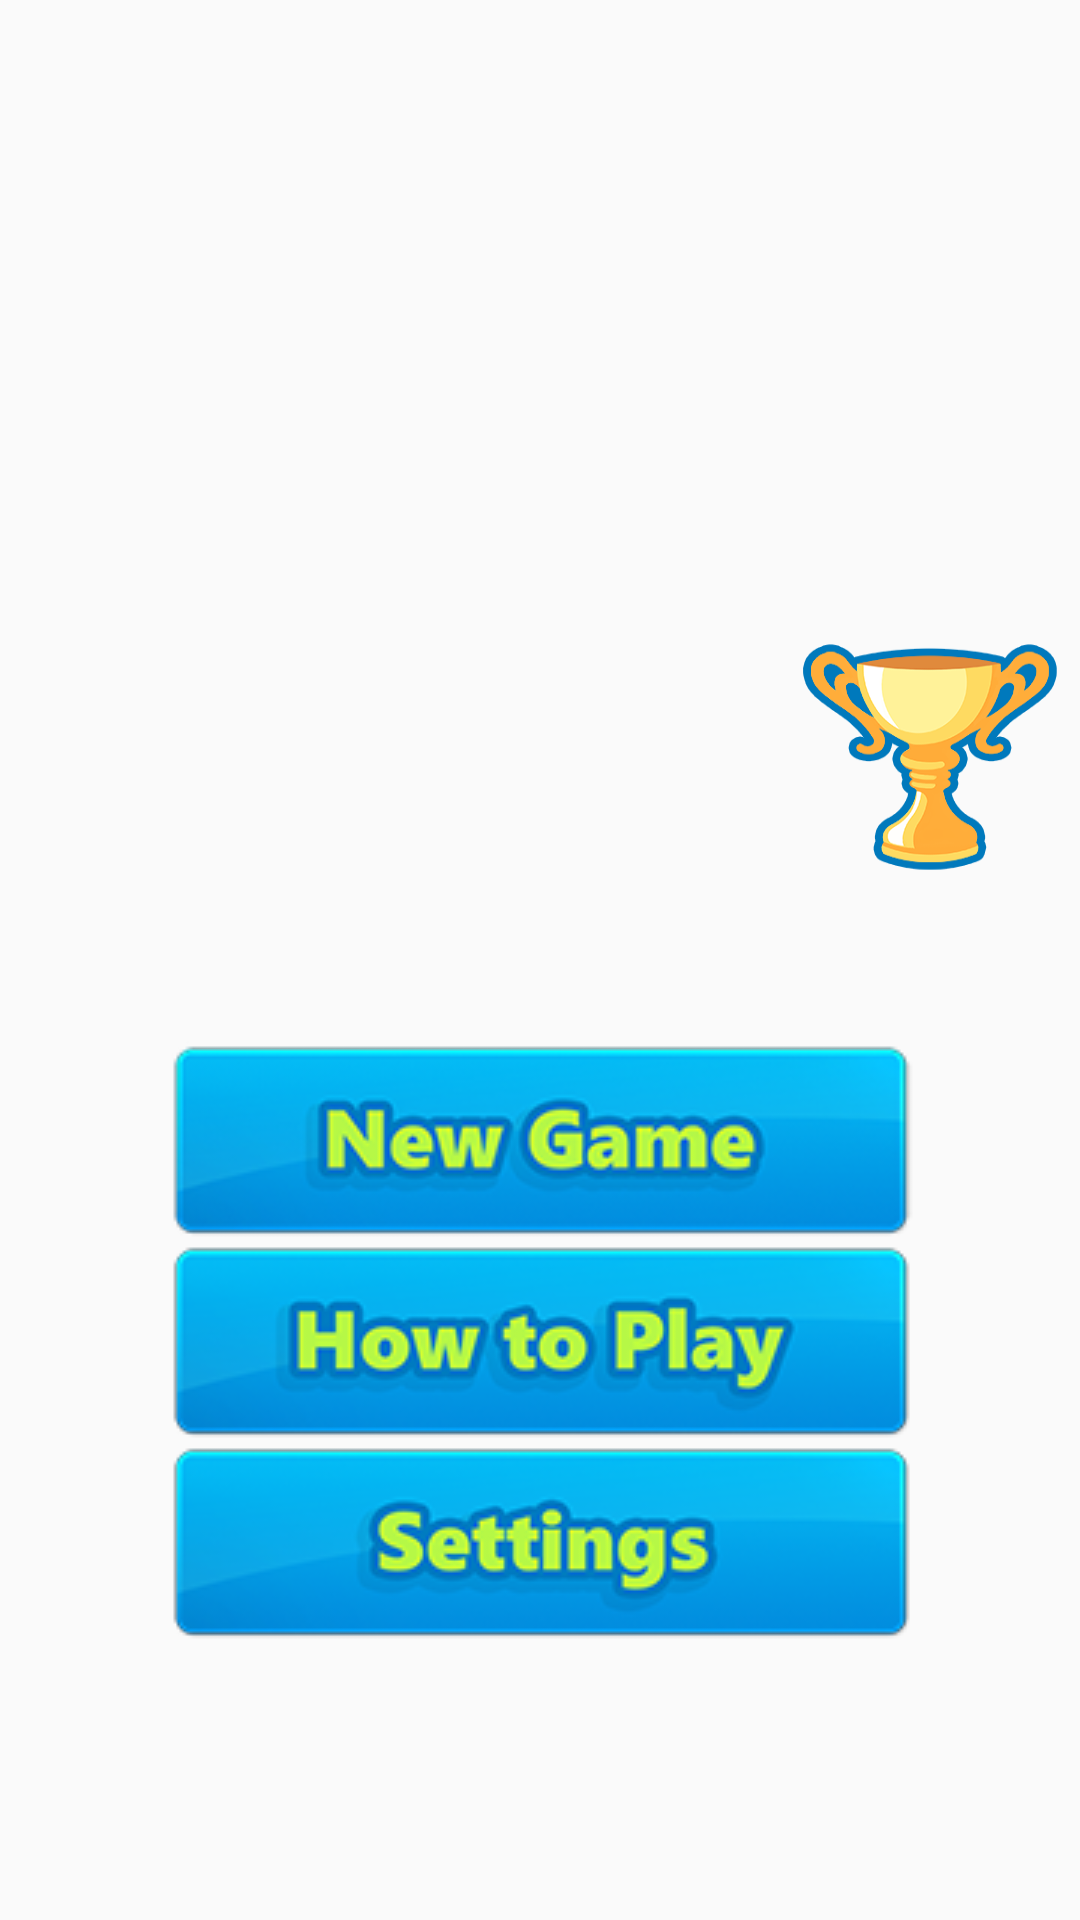

Where icons sit on this 1080px×1920px app screen, as (x1, y1, x2, y2):
trophy: (803, 644, 1057, 870)
